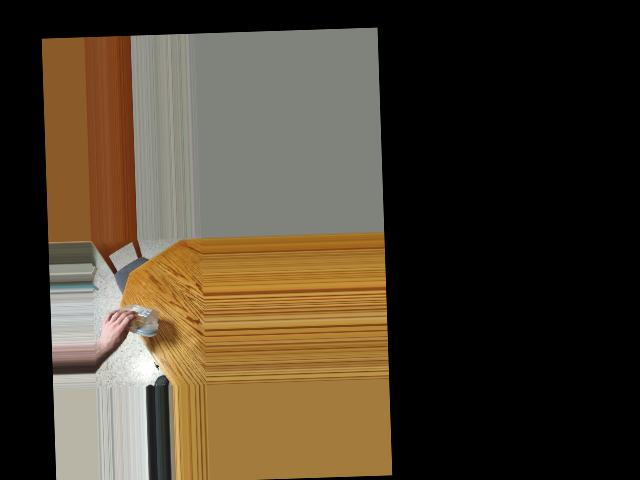cheese: (108, 305, 146, 339)
